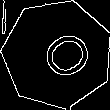O_SW: (23, 22, 91, 86)
